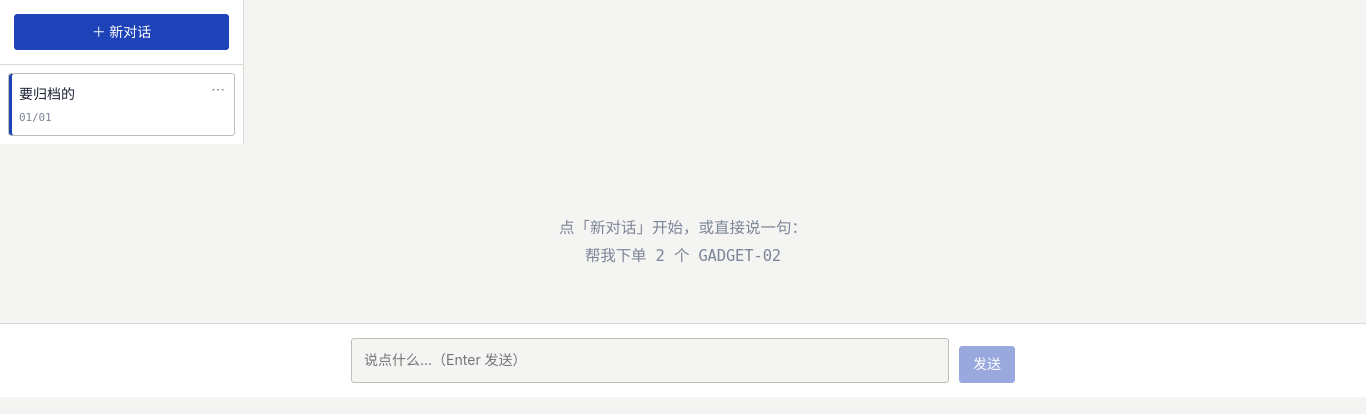
Test: 归档与恢复 › 行溢出菜单里的「归档」把会话收进归档组
The image size is (1366, 414).
Click the button with class "entry-more": (218, 90) [207,83,229,97]
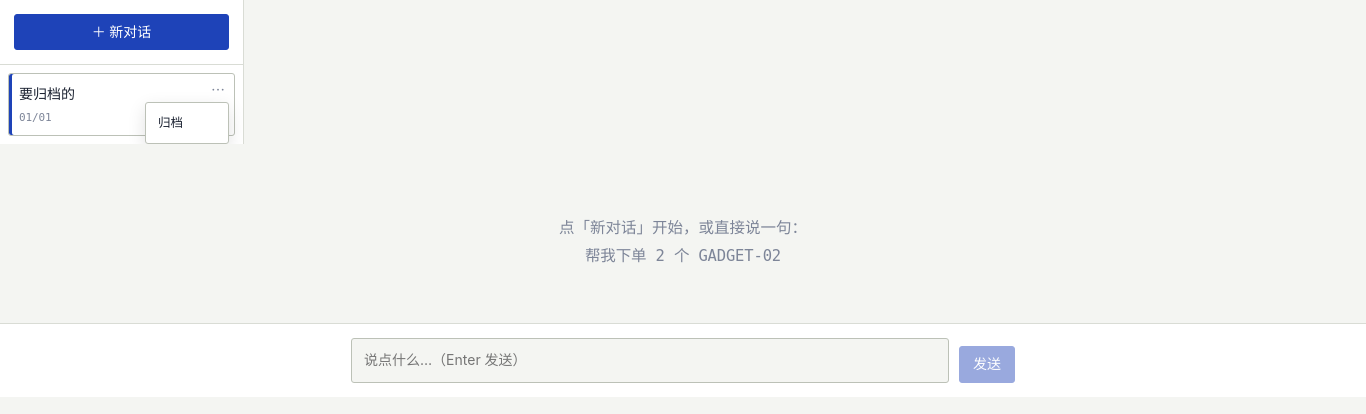
Click the button with class "menu-item": (187, 123) [150,107,224,139]
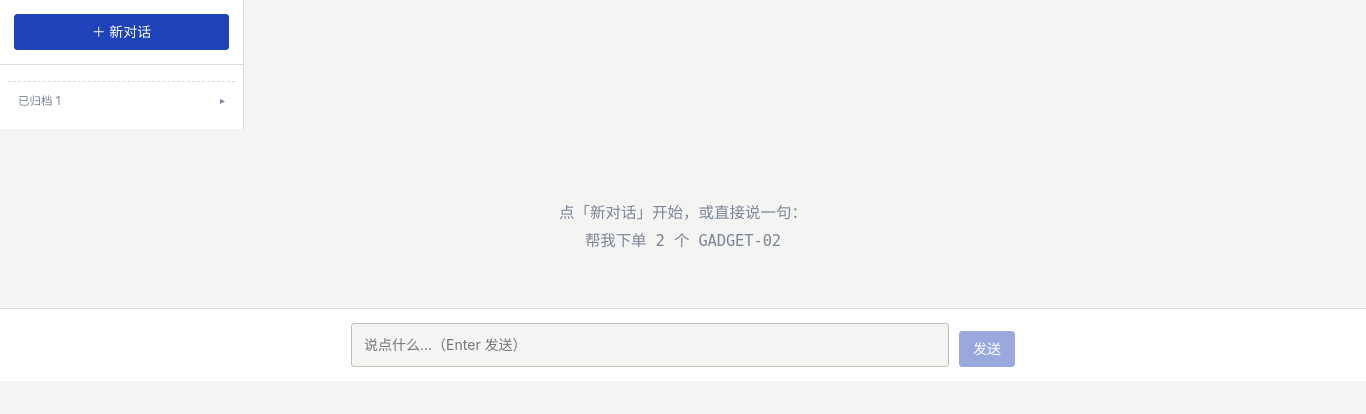
Expected: the button with class "archived-toggle" shows "已归档 1", [8,86,235,117]
